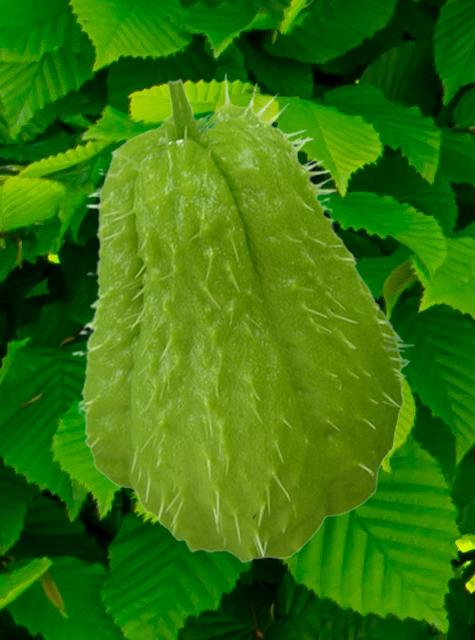sayote: (71, 72, 413, 562)
